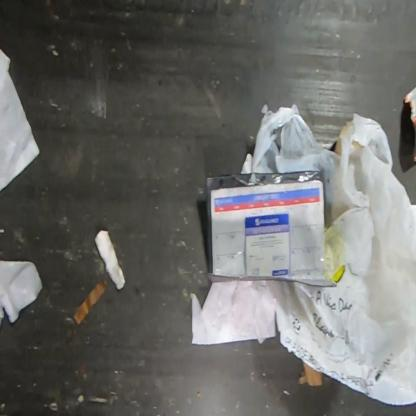soft_plastic: (252, 103, 415, 407), (205, 173, 337, 288), (403, 70, 415, 162)
